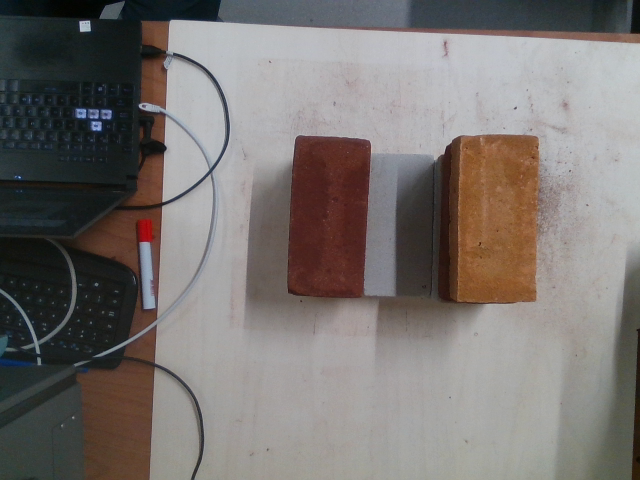brick: (285, 137, 371, 296), (460, 138, 536, 302), (365, 153, 435, 298)
